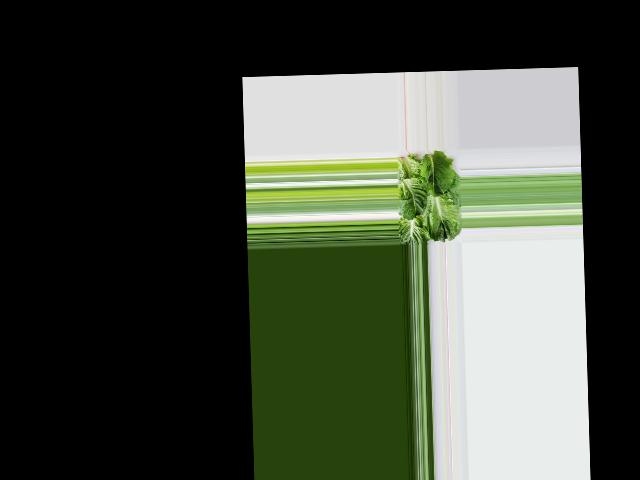lettuce: (395, 152, 460, 243)
